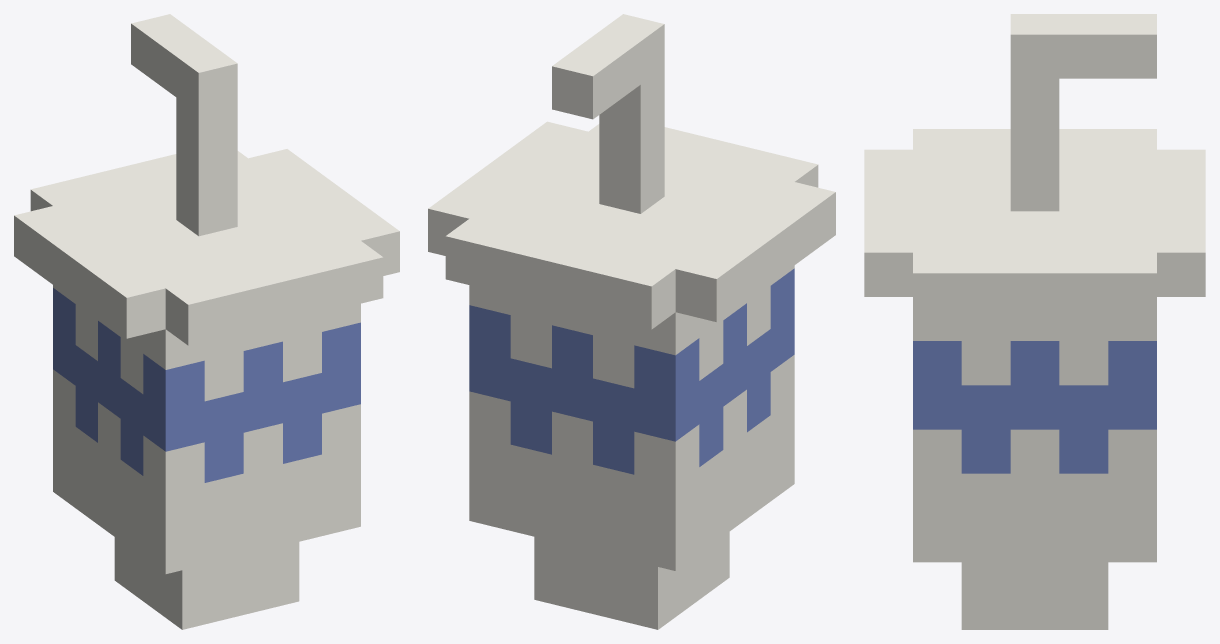
File: id-beach-drink.obj
3 views of the same model, side by side, from view 1: azimuth 30°, elevation 25°; view 2: azimuth 150°, elevation 25°; view 3: azimuth 270°, elevation 25° (orthographic). The views are drawn at different scales.
Size of the model in its own units: 7 by 13 by 7.
Materials: 1 (1 with a texture image).
